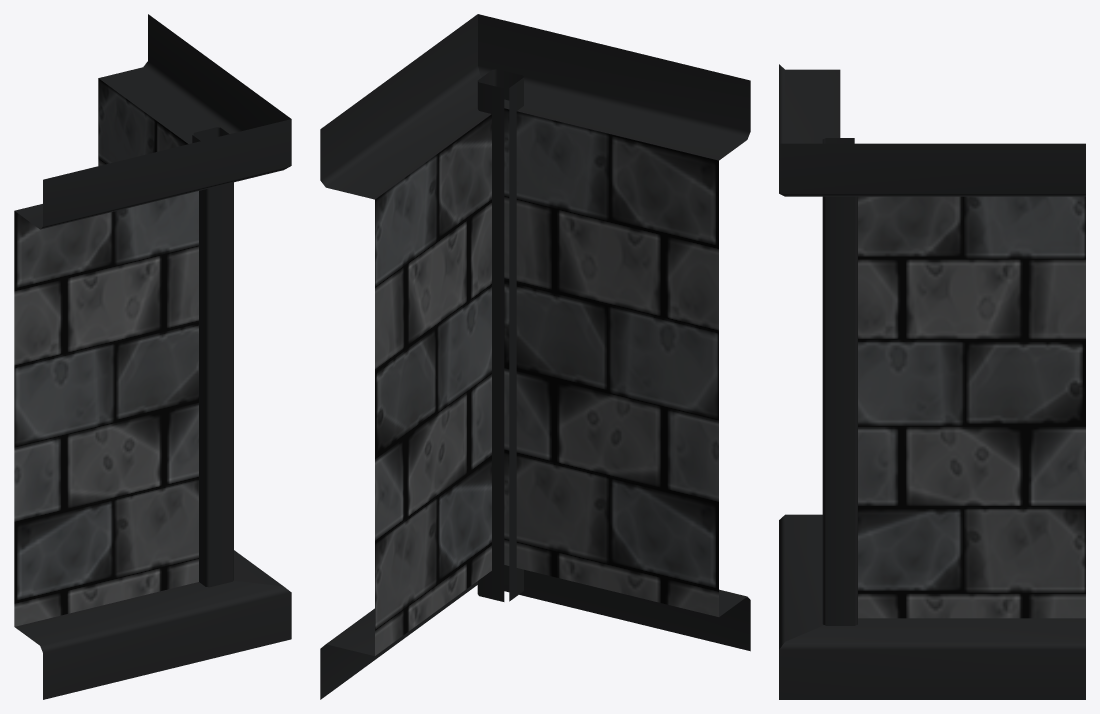
The model's file is M_Wall_Angle_Exterior_Half_Up.fbx.
3 renders of one model, left to right at view 1: azimuth 30°, elevation 25°; view 2: azimuth 150°, elevation 25°; view 3: azimuth 270°, elevation 25°, orthographic. The views are drawn at different scales.
Parts seen in each view (by area): view 1: Wall_Angle_Exterior_Half_Up; view 2: Wall_Angle_Exterior_Half_Up; view 3: Wall_Angle_Exterior_Half_Up.
Boxes of the visible parts, x1,y1,x2,y2 form: Wall_Angle_Exterior_Half_Up: [14, 14, 291, 699]; Wall_Angle_Exterior_Half_Up: [320, 14, 750, 699]; Wall_Angle_Exterior_Half_Up: [779, 64, 1085, 699].
Size of the model in its own units: 100 by 200 by 100.
